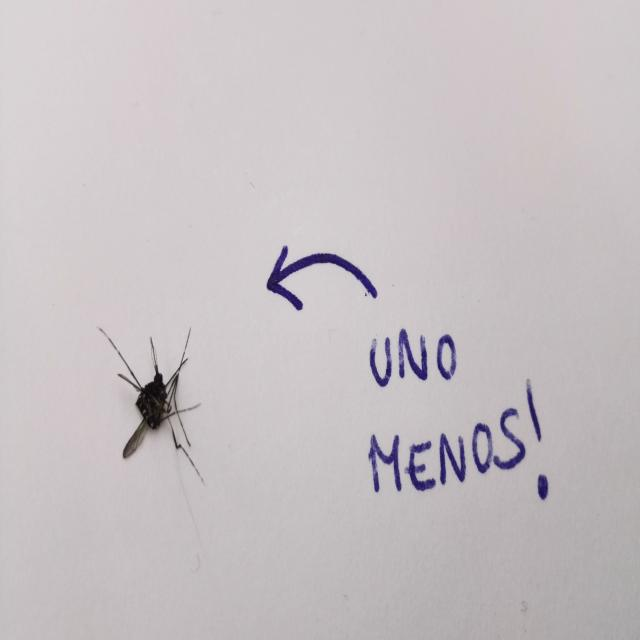albopictus: (95, 311, 206, 483)
